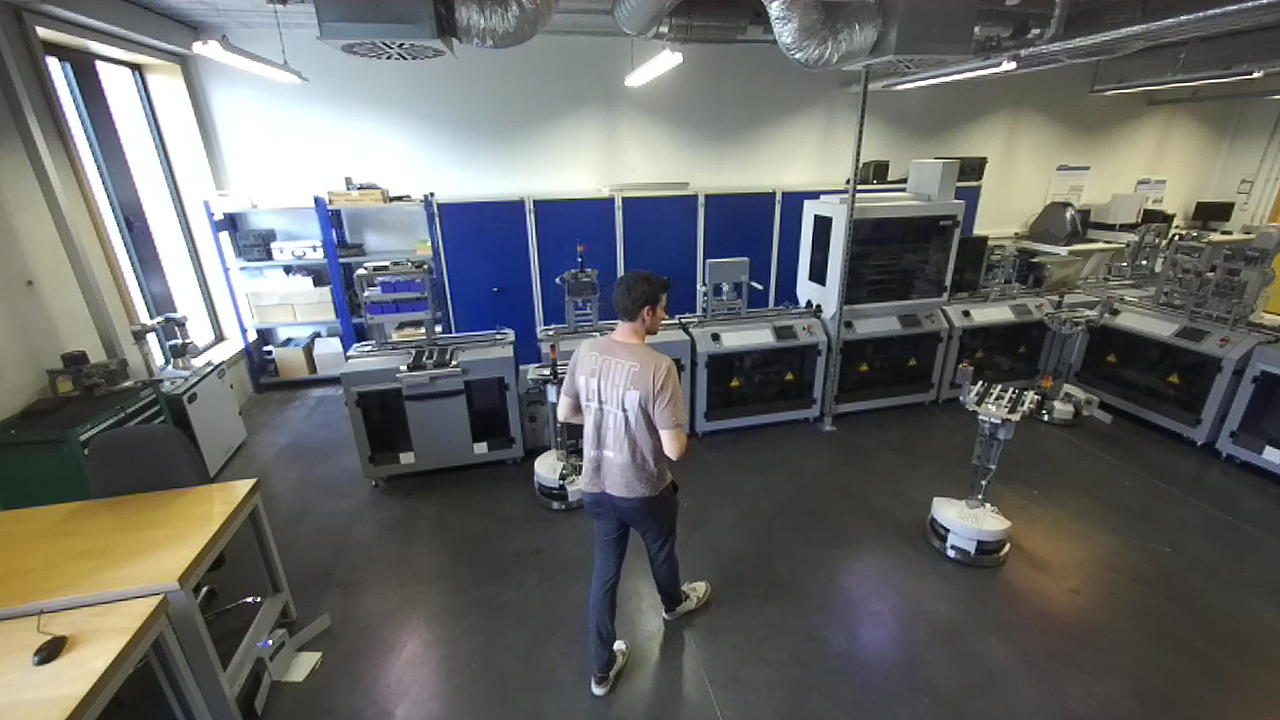AMR: (926, 359, 1047, 566), (1034, 278, 1112, 429)
Human: (558, 265, 714, 697)
